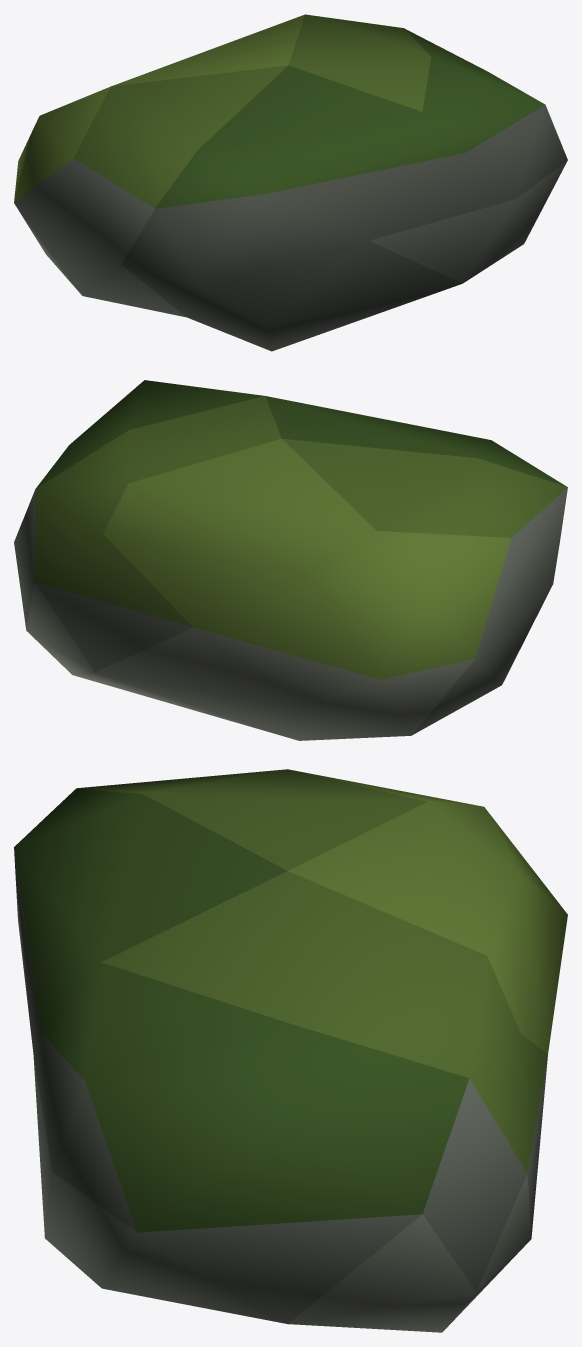
The model's file is forest-rock-0.glb.
The picture shows the model from 3 angles, top to bottom: view 1: azimuth 30°, elevation 25°; view 2: azimuth 150°, elevation 25°; view 3: azimuth 270°, elevation 25°; orthographic projection. The views are drawn at different scales.
Visible parts, largest first — view 1: forest-rock-0/0; view 2: forest-rock-0/0; view 3: forest-rock-0/0.
Part boxes in pixels (bbox=[...]): forest-rock-0/0: bbox=[14, 14, 567, 351]; forest-rock-0/0: bbox=[14, 380, 567, 740]; forest-rock-0/0: bbox=[14, 769, 567, 1332].
Size of the model in its own units: 0.45 by 0.2097 by 0.298.
